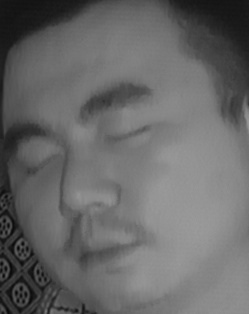blink: (102, 117, 154, 153), (15, 143, 63, 178)
mouth: (68, 223, 148, 275)
